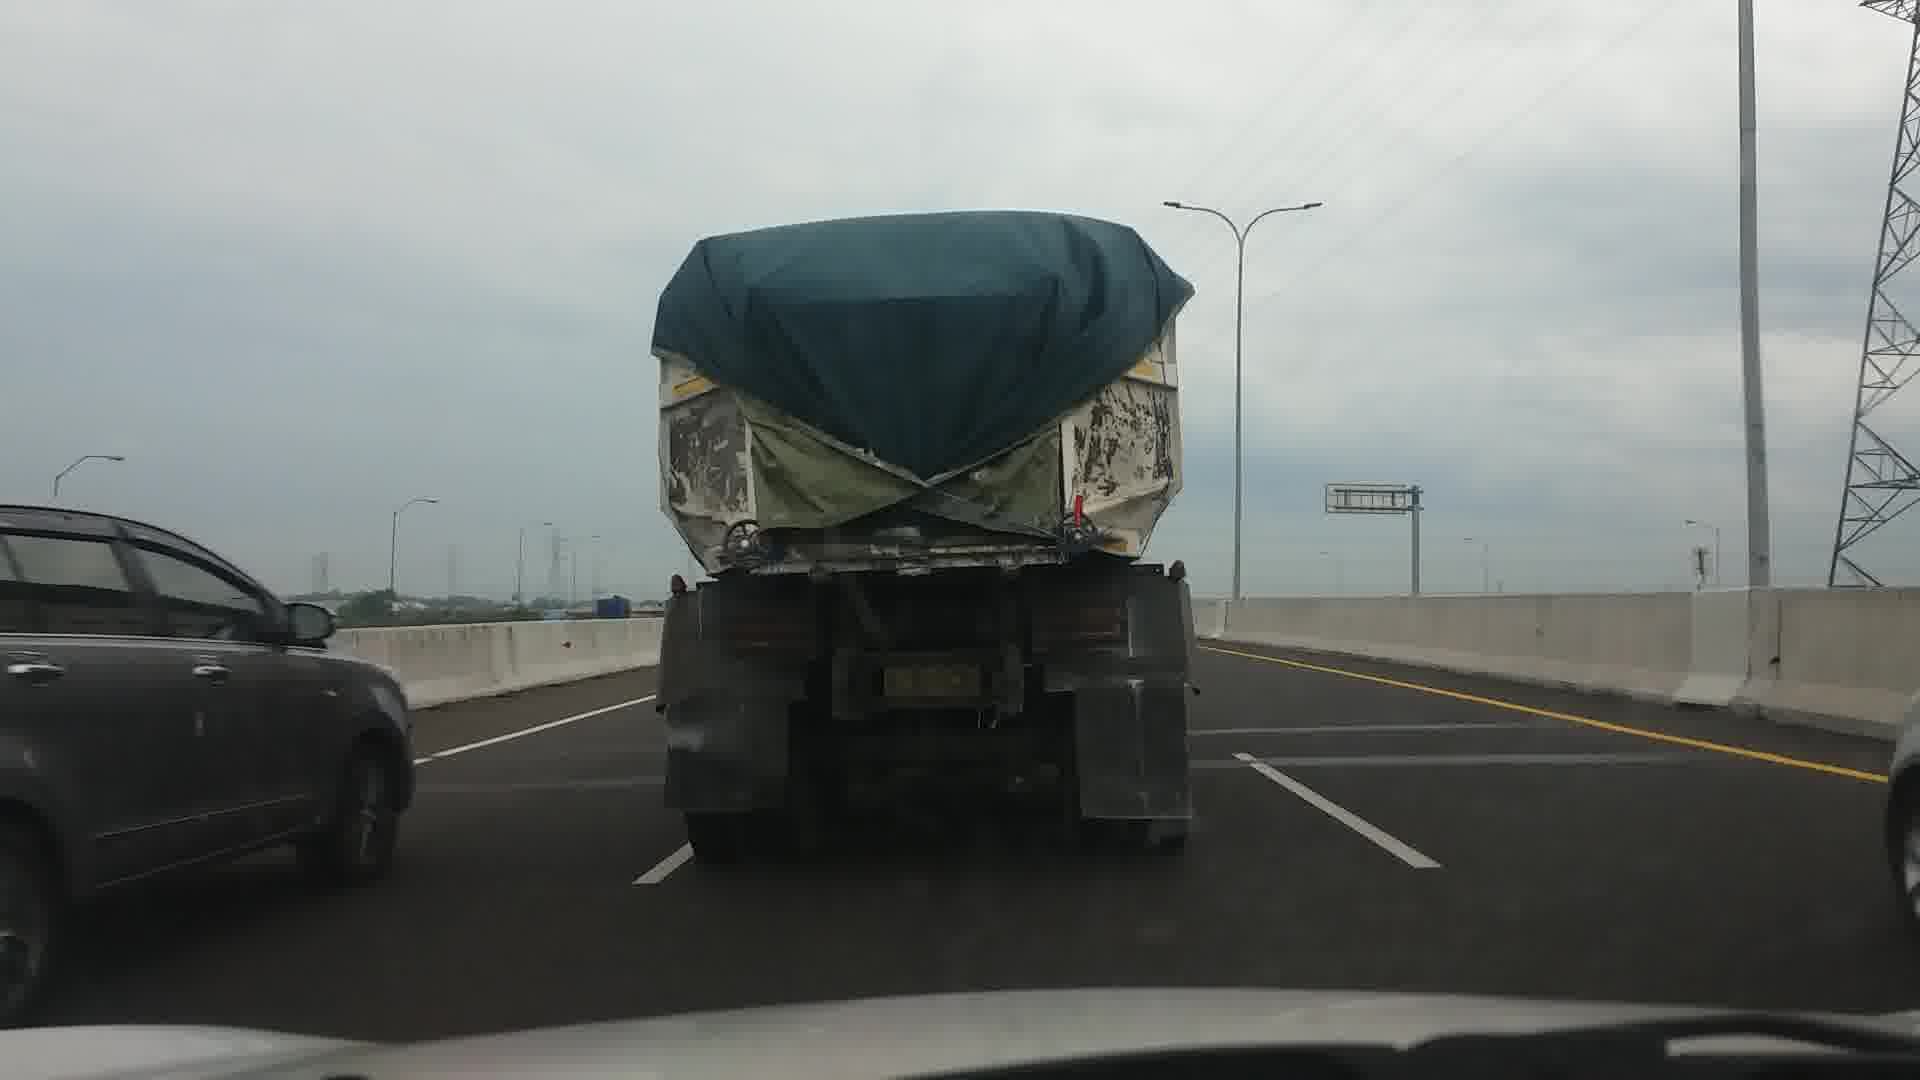plate_positive: (884, 665, 981, 698)
